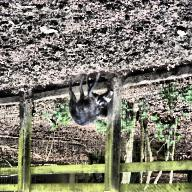boar: (69, 72, 114, 126)
